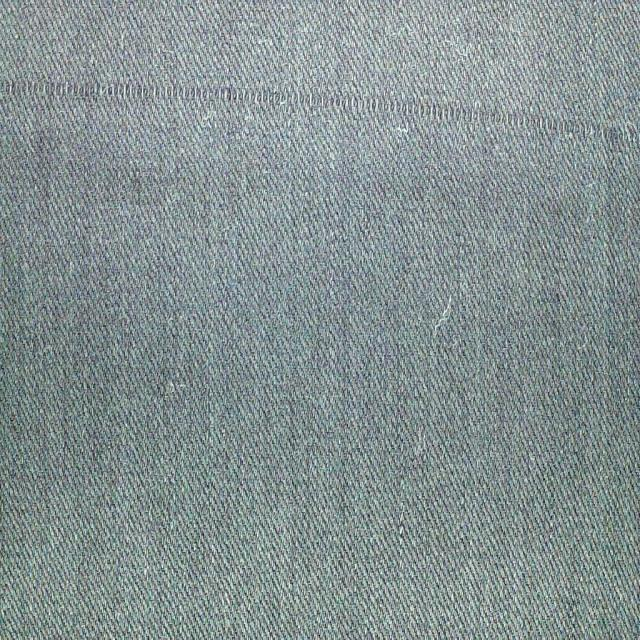Line: (0, 76, 640, 150)
